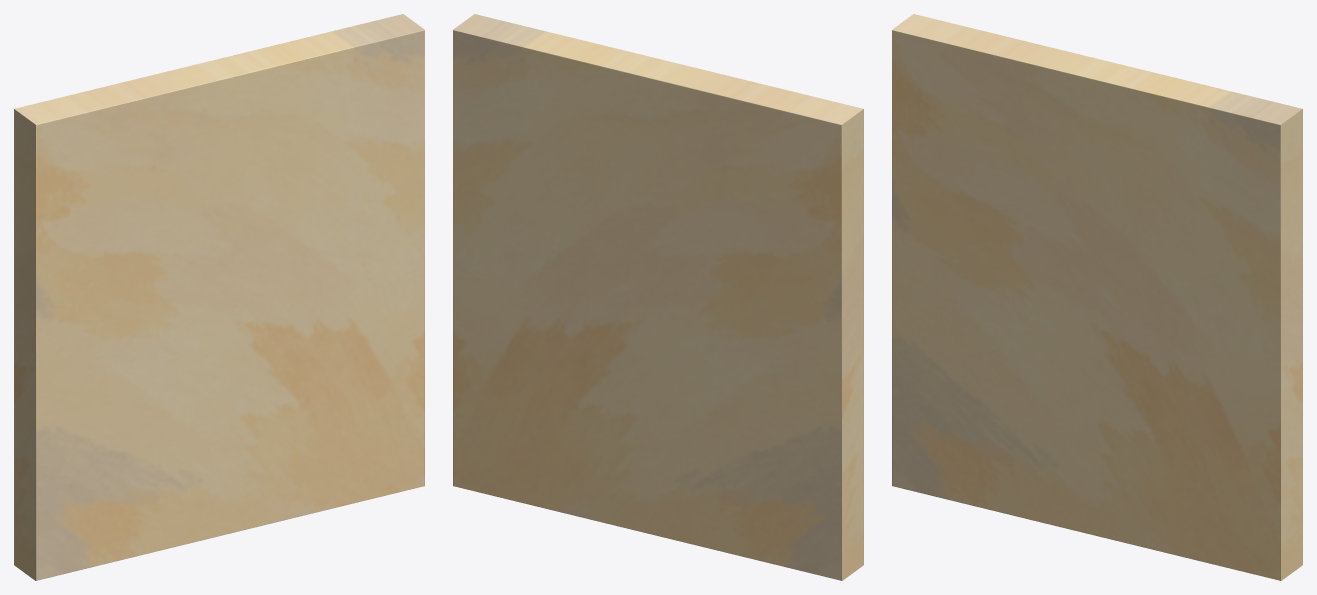
Rendered from CM_FacadeBay01_Plain_3m_Tall.fbx.
3 renders of one model, left to right at view 1: azimuth 30°, elevation 25°; view 2: azimuth 150°, elevation 25°; view 3: azimuth 330°, elevation 25°, orthographic.
Visible parts, largest first — view 1: CM_FacadeBay01_Plain_3m_Tall_Plaster; view 2: CM_FacadeBay01_Plain_3m_Tall_Plaster; view 3: CM_FacadeBay01_Plain_3m_Tall_Plaster.
Boxes of the visible parts, x1=… form: CM_FacadeBay01_Plain_3m_Tall_Plaster: x1=14, y1=14, x2=424, y2=580; CM_FacadeBay01_Plain_3m_Tall_Plaster: x1=453, y1=14, x2=863, y2=580; CM_FacadeBay01_Plain_3m_Tall_Plaster: x1=892, y1=14, x2=1302, y2=580.
Size of the model in its own units: 2.82 by 3.16 by 0.28.
